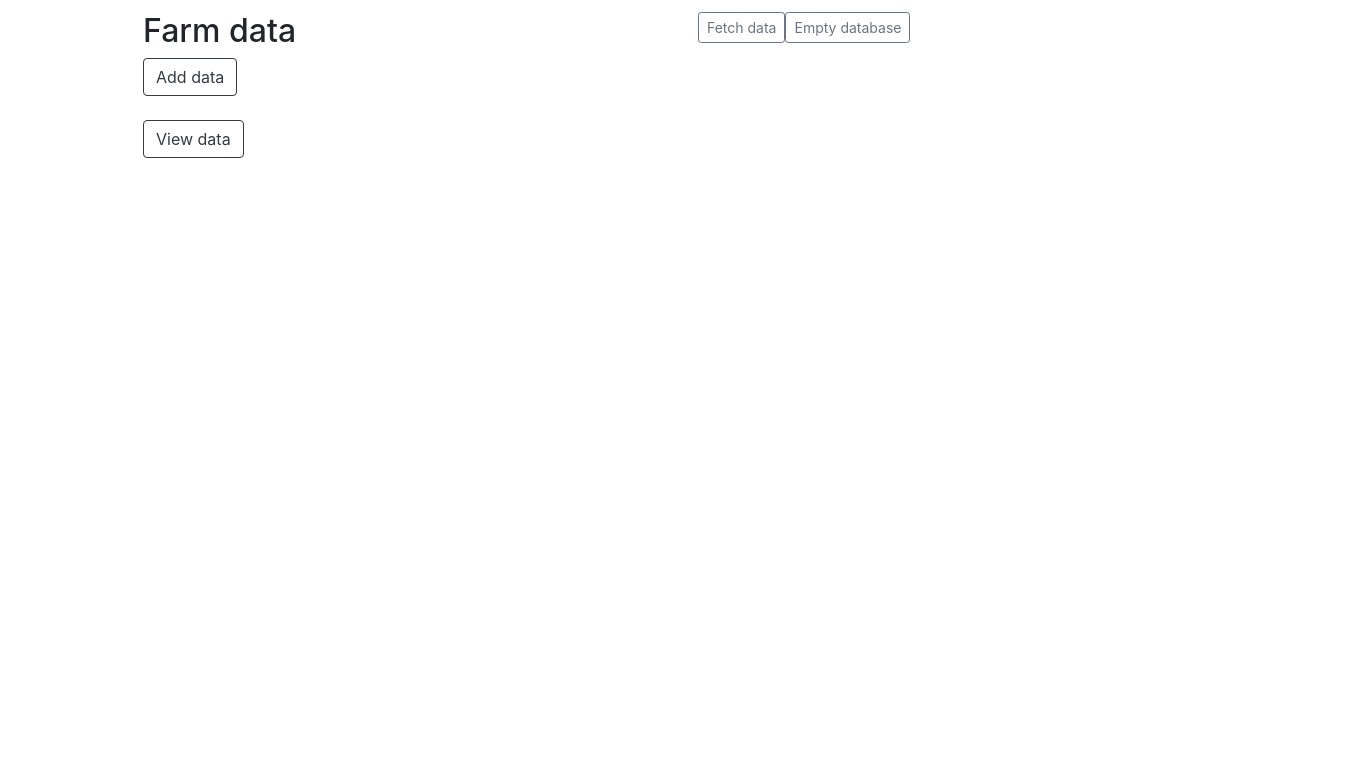
Test: Farm data › chart and table mutually exclusive
Step 1. Click the button "View data" → (194, 139), box [143, 120, 244, 158]
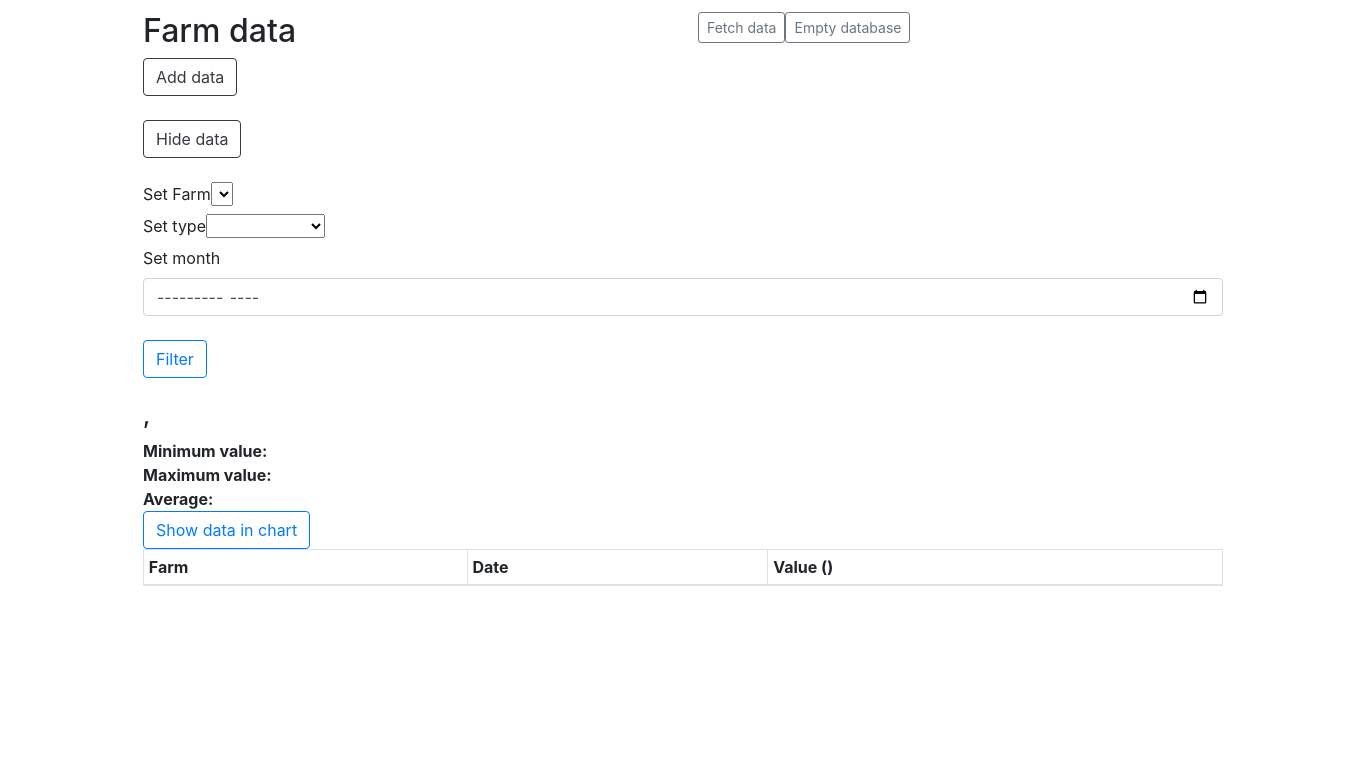
Result: the table with id "table" is shown at [143, 549, 1223, 586]
Step 2. Click the button with id "tableOrChart-button" → (227, 530), box [143, 511, 310, 549]
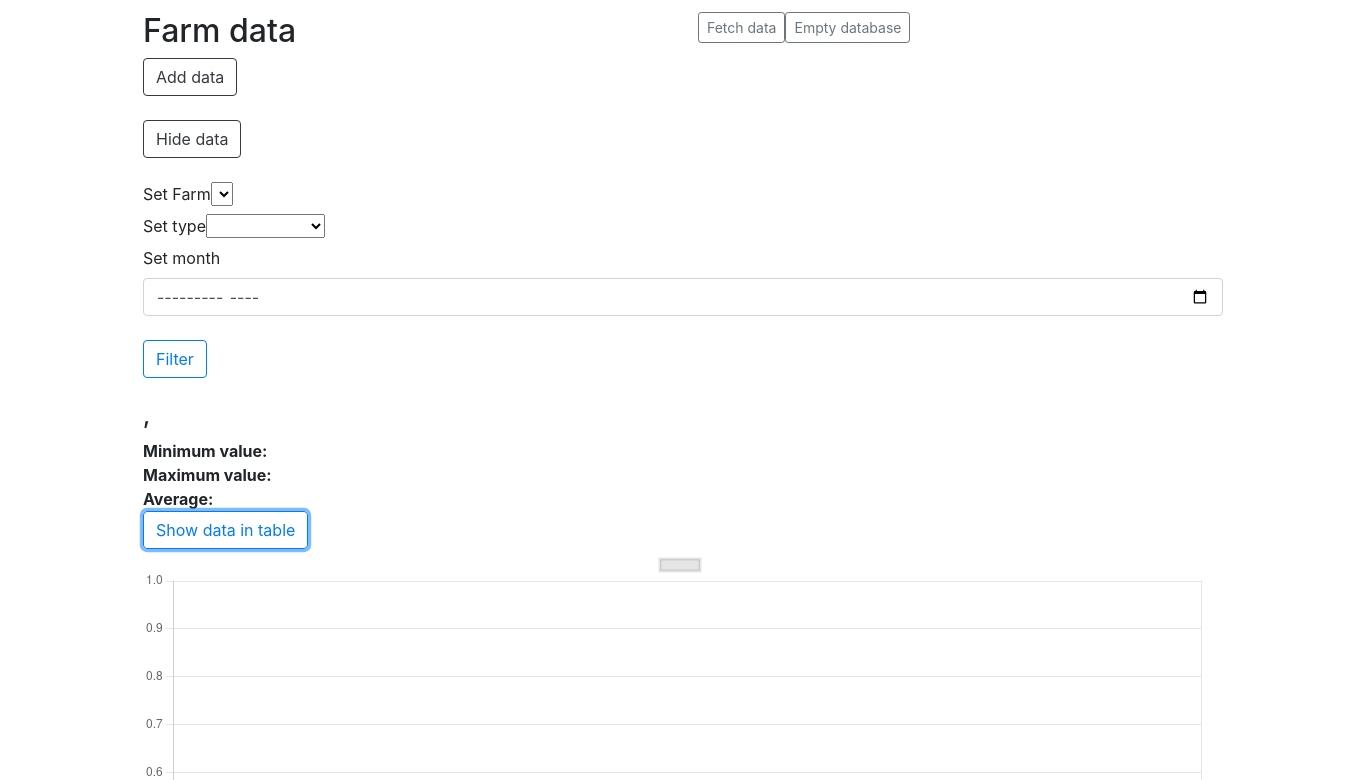
Result: the table with id "table" is gone
Result: the picture with id "chart" is shown at [143, 549, 1223, 779]
